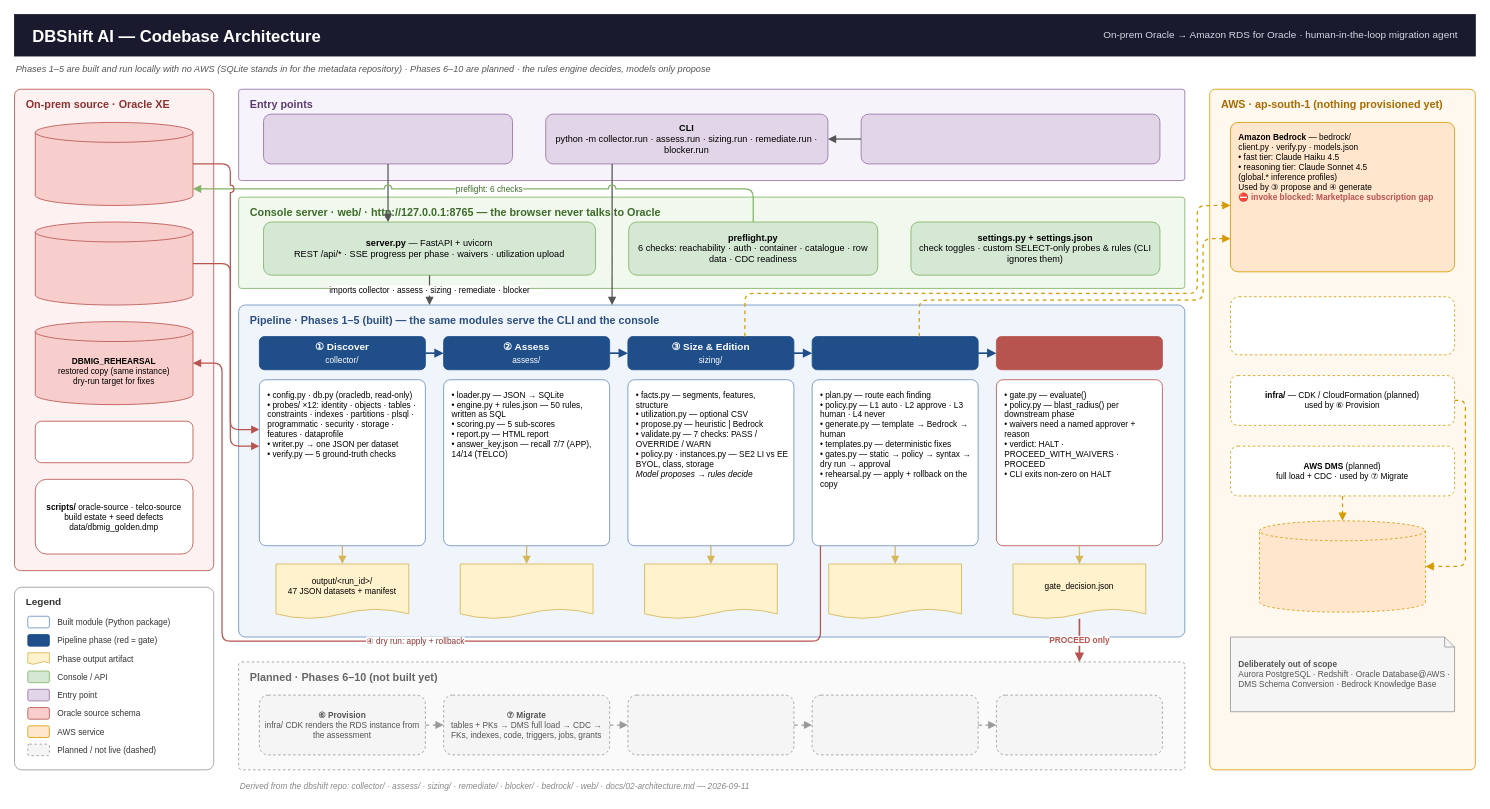
Image size: 1490x809. Some labels were removed from this diagram. The centre of each missing label's shape, as x and y in pixels:
Amazon RDS for Oracle migration target (planned) SE2 LI or EE BYOL: (1342,566)
assessment.json .sqlite · report.html: (526,591)
Browser console web/static/index.html · HTTP + SSE Connect + stage rail ①–⑤: (388,138)
DBMIG_APP reference estate · 1.03 GB 90 objects · 8 seeded defects: (113,163)
dbmig_collector read-only account: (113,441)
DBMIG_TELCO telecom billing · 5.67 GB 32.7M rows · 14 defects: (113,263)
Metadata repository — Aurora (planned) SQLite stands in locally today: (1342,325)
remediation_plan.json: (895,591)
run_phases.ps1 second estate (DBMIG_TELCO), env-var driven, no code changes: (1010,138)
sizing.json facts · proposal · decision: (710,591)
④ Detect & Remediate remediate/: (894,353)
⑤ Blocker Gate blocker/: (1079,353)
⑧ Validate 5 levels · object-level reconciliation: (710,724)
⑨ Cutover CDC lag check · readiness certificate · human approval: (894,724)
⑩ Report change log · scores · audit trail: (1079,724)
